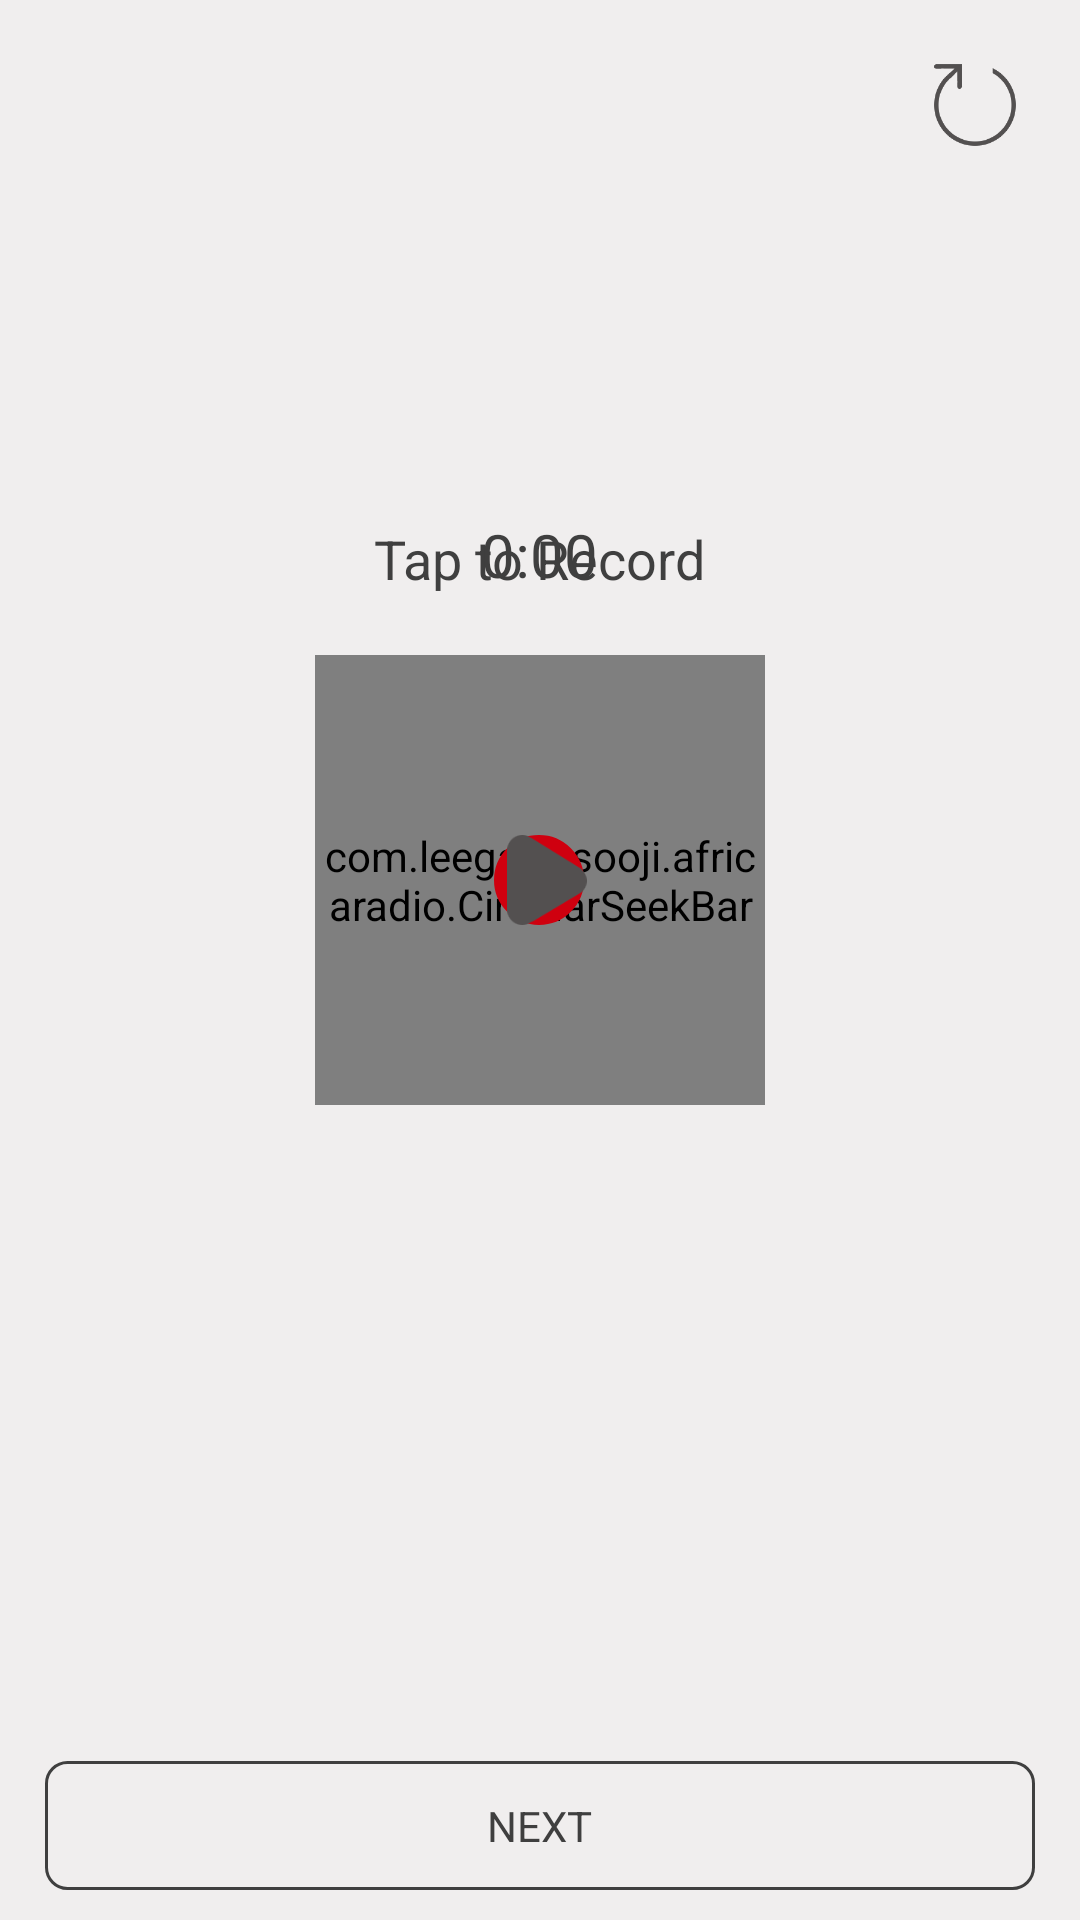

Icon bounding boxes for this 1080 x 1920 phone screenshot, format [left=x1, top=y1, right=x2, bottom=y2]:
again: [left=934, top=64, right=1016, bottom=146]
play round: [left=502, top=835, right=592, bottom=925]
